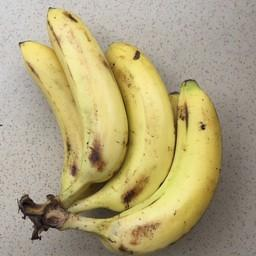Banana Ripe: (64, 54, 231, 256), (49, 0, 129, 228), (89, 25, 174, 232), (9, 27, 86, 201)
